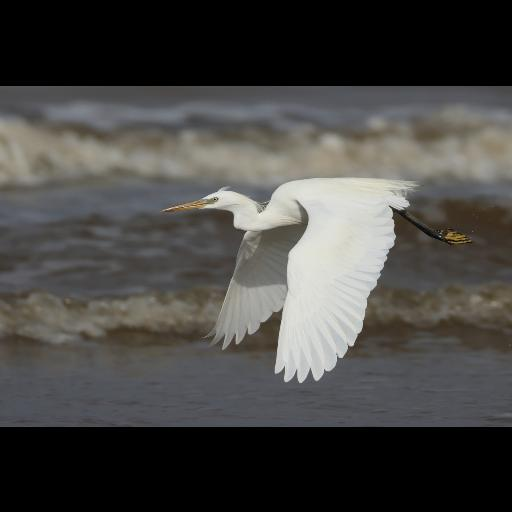chinese_egret: (158, 176, 476, 382)
